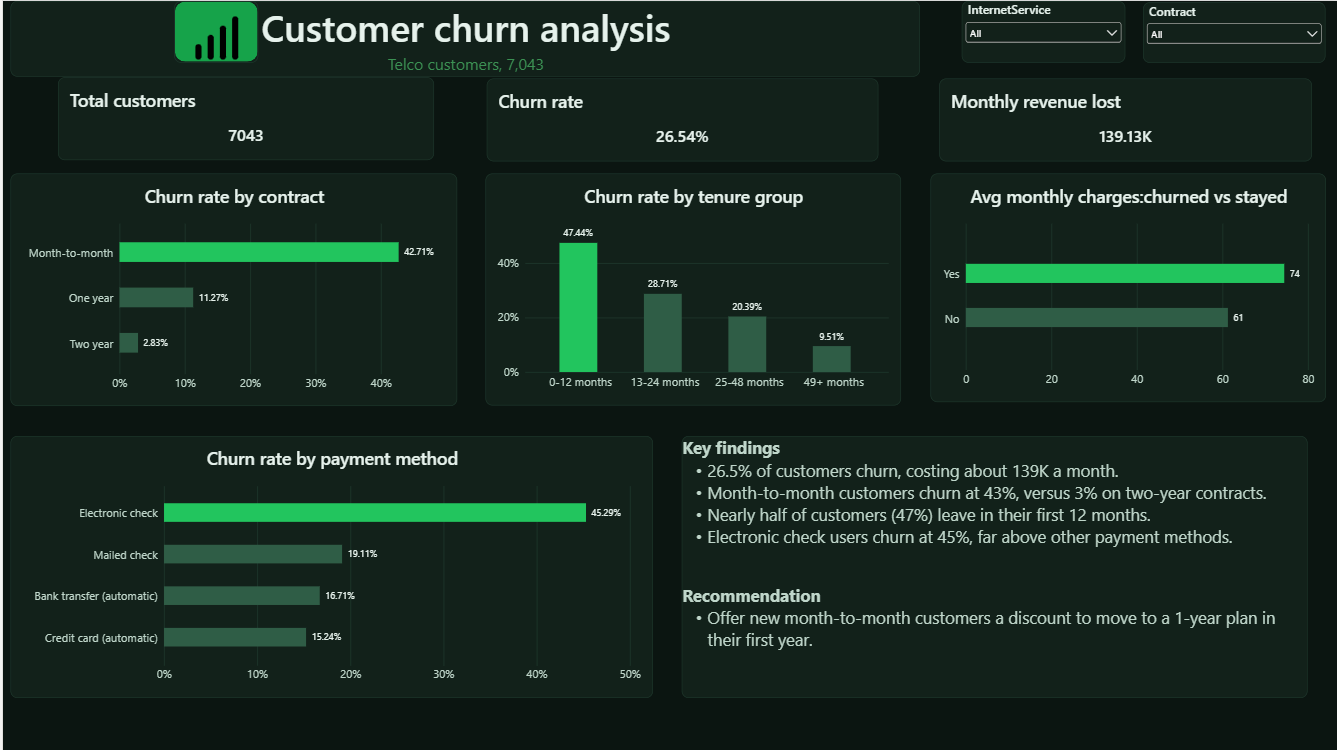

What the dashboard file says about the page in this screenshot:
{"tool":"powerbi","page":{"name":"Page 1","canvas":[1920,1080],"ordinal":0},"visuals":[{"type":"card","title":"Churn rate","fields":{"Values":["Customer_churn.Churn_Rate %"]},"box":[694.9,112.2,562.8,119.4],"z":0},{"type":"card","title":"Monthly revenue lost","fields":{"Values":["Customer_churn.Monthly Revenue Lost"]},"box":[1346.4,112.2,535.7,119.4],"z":1000},{"type":"card","title":"Total customers ","fields":{"Values":["Customer_churn.Total Customers"]},"box":[79.6,110.4,541.1,119.4],"z":2000},{"type":"clusteredBarChart","title":"Churn rate by contract","fields":{"Category":["Customer_churn.Contract"],"Y":["Customer_churn.Churn_Rate %"]},"box":[10.9,247.9,642.4,334.8],"z":3000},{"type":"clusteredColumnChart","title":"Churn rate by tenure group ","fields":{"Category":["Customer_churn.Tenure Group"],"Y":["Customer_churn.Churn_Rate %"]},"box":[694.7,248.9,597.3,333.3],"z":4000},{"type":"clusteredBarChart","title":"Churn rate by payment method","fields":{"Category":["Customer_churn.PaymentMethod"],"Y":["Customer_churn.Churn_Rate %"]},"box":[10.8,625.4,924.1,376.6],"z":5000},{"type":"clusteredBarChart","title":"Avg monthly charges:churned vs stayed","fields":{"Category":["Customer_churn.Churn"],"Y":["Customer_churn.Avg Monthly Charges"]},"box":[1333.1,248.9,569.2,328.9],"z":6000},{"type":"slicer","fields":{"Values":["Customer_churn.Contract"]},"box":[1640.4,2.2,262.4,86.9],"z":7000},{"type":"slicer","fields":{"Values":["Customer_churn.InternetService"]},"box":[1378.6,0,235.3,88.7],"z":8000},{"type":"textbox","title":"Customer churn analysis ","box":[10.9,0,1308.4,108.6],"z":9000},{"type":"textbox","title":"Key findings ","box":[976,625.4,900.3,376.6],"z":9001},{"type":"shape","box":[246.7,0,121.2,88.7],"z":9002},{"type":"image","box":[220.7,0,173.1,106],"z":9003}]}

Visuals, with their boxes in screenshot pixels (x1, y1, x2, y2), scaled from the page's 1920x1080 canvas onto the 1337x750 screenshot:
"Churn rate" card: [x1=484, y1=78, x2=876, y2=161]
"Monthly revenue lost" card: [x1=938, y1=78, x2=1311, y2=161]
"Total customers " card: [x1=55, y1=77, x2=432, y2=160]
"Churn rate by contract" clusteredBarChart: [x1=8, y1=172, x2=455, y2=405]
"Churn rate by tenure group " clusteredColumnChart: [x1=484, y1=173, x2=900, y2=404]
"Churn rate by payment method" clusteredBarChart: [x1=8, y1=434, x2=651, y2=696]
"Avg monthly charges:churned vs stayed" clusteredBarChart: [x1=928, y1=173, x2=1325, y2=401]
slicer - Customer_churn.Contract: [x1=1142, y1=2, x2=1325, y2=62]
slicer - Customer_churn.InternetService: [x1=960, y1=0, x2=1124, y2=62]
"Customer churn analysis " textbox: [x1=8, y1=0, x2=919, y2=75]
"Key findings " textbox: [x1=680, y1=434, x2=1307, y2=696]
shape: [x1=172, y1=0, x2=256, y2=62]
image: [x1=154, y1=0, x2=274, y2=74]
